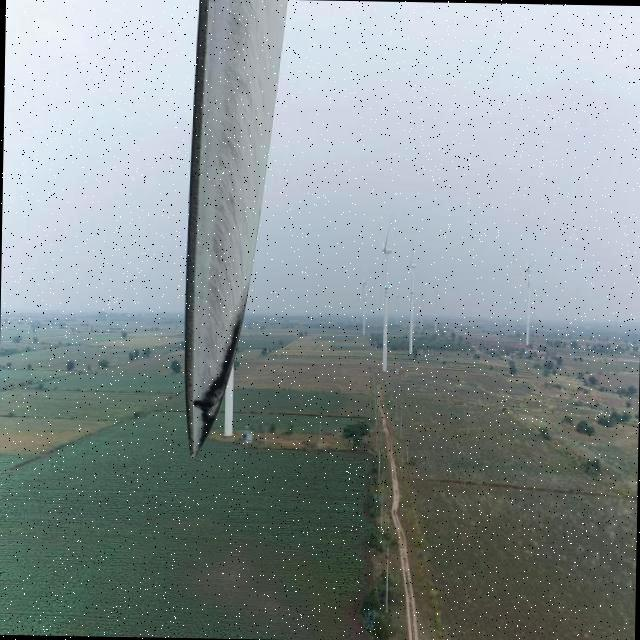Dirt: (186, 0, 289, 456)
Oil LEAKAGE: (198, 320, 242, 458)
Pin Hole: (192, 396, 216, 412)
